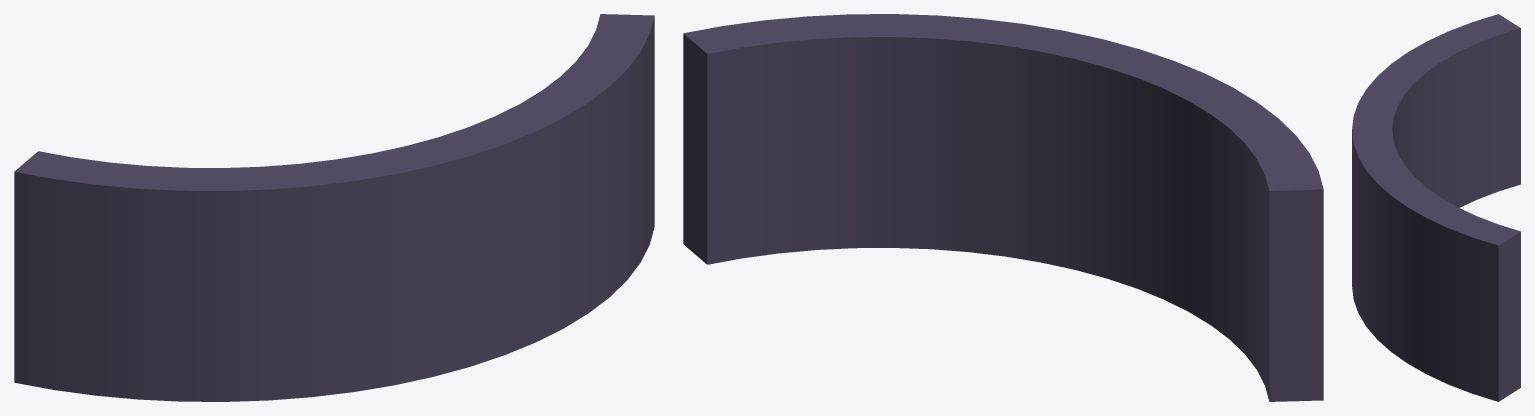
The model's file is Inner_04.fbx.
3 renders of one model, left to right at view 1: azimuth 30°, elevation 25°; view 2: azimuth 150°, elevation 25°; view 3: azimuth 270°, elevation 25°, orthographic. The views are drawn at different scales.
Parts seen in each view (by area): view 1: Inner_04; view 2: Inner_04; view 3: Inner_04.
Boxes of the visible parts, bbox=[...] form: Inner_04: bbox=[14, 14, 654, 401]; Inner_04: bbox=[683, 14, 1323, 401]; Inner_04: bbox=[1352, 14, 1520, 401].
Size of the model in its own units: 110 by 34.73 by 34.01.
